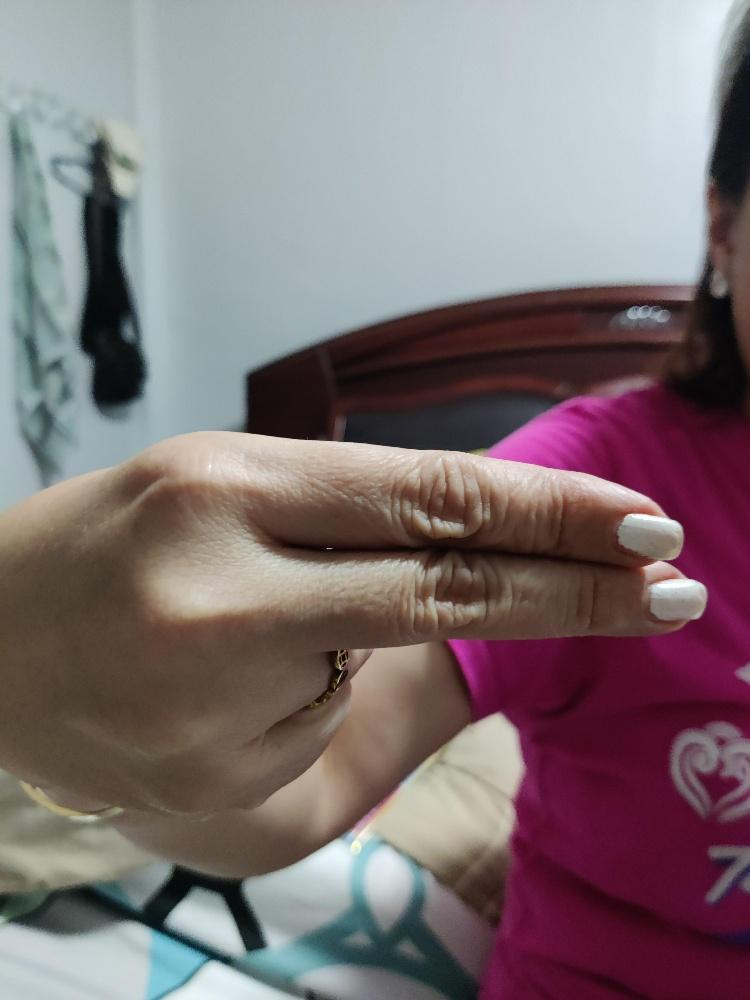h: (0, 426, 709, 818)
